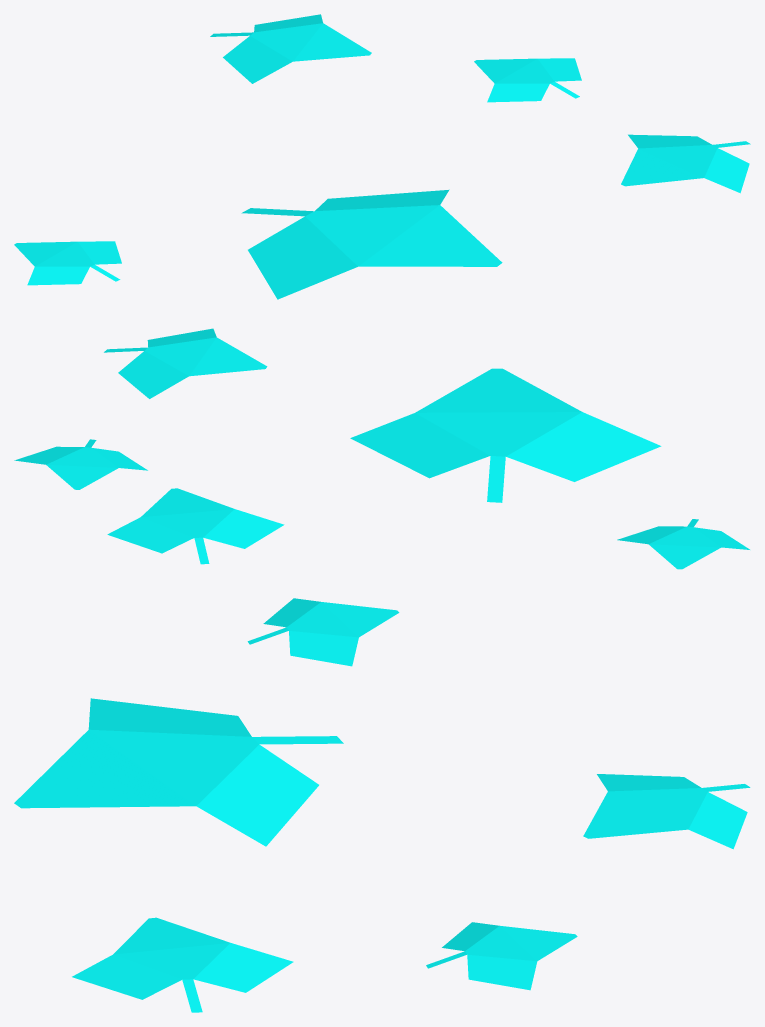
The model's file is LeafPile_1.fbx.
The picture shows the model from 3 angles, top to bottom: view 1: azimuth 30°, elevation 25°; view 2: azimuth 150°, elevation 25°; view 3: azimuth 270°, elevation 25°; orthographic projection. The views are drawn at different scales.
Visible parts, largest first — view 1: LeafPile_1; view 2: LeafPile_1; view 3: LeafPile_1.
Part boxes in pixels (x1,y1,x2,y2): LeafPile_1: (14,14,750,299); LeafPile_1: (14,328,749,569); LeafPile_1: (14,598,750,1012).
Size of the model in its own units: 248 by 12.88 by 184.
